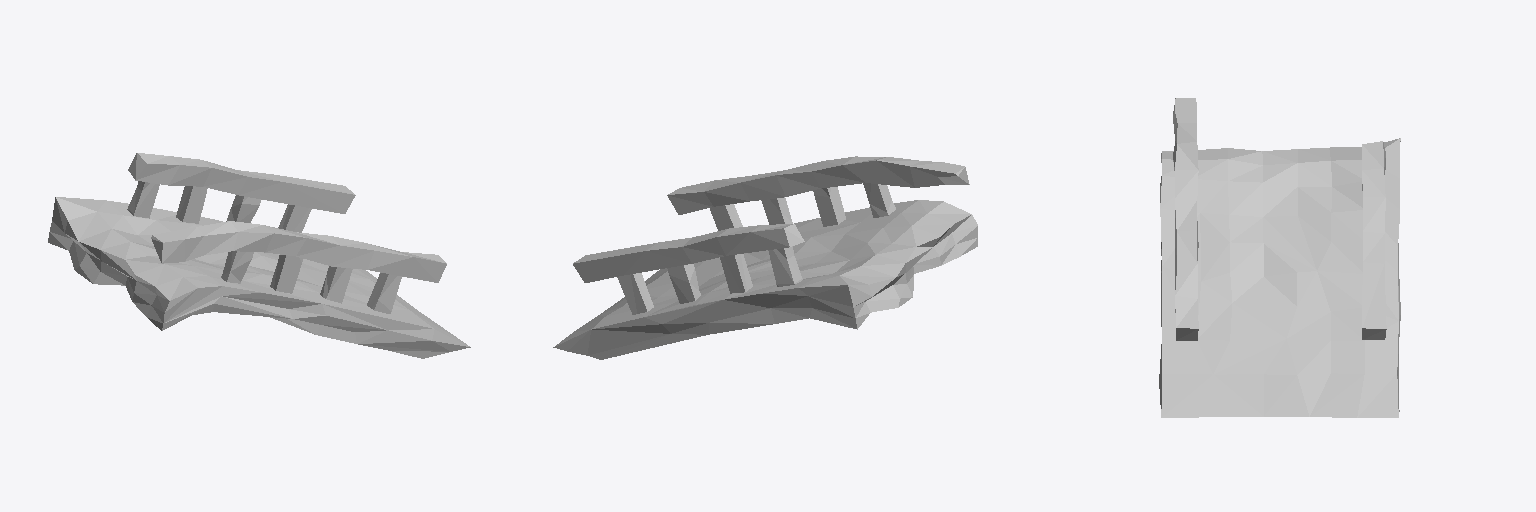
Rendered from Ponte quebrada 1.obj.
3 views of the same model, side by side, from view 1: azimuth 30°, elevation 25°; view 2: azimuth 150°, elevation 25°; view 3: azimuth 270°, elevation 25° (orthographic).
Visible parts, largest first — view 1: Ponte.001_Cube.000; view 2: Ponte.001_Cube.000; view 3: Ponte.001_Cube.000.
Part boxes in pixels (left/top/right/bottom): Ponte.001_Cube.000: left=48, top=153, right=470, bottom=358; Ponte.001_Cube.000: left=553, top=156, right=977, bottom=359; Ponte.001_Cube.000: left=1159, top=98, right=1400, bottom=417.
Size of the model in its own units: 6.14 by 3.28 by 4.12.